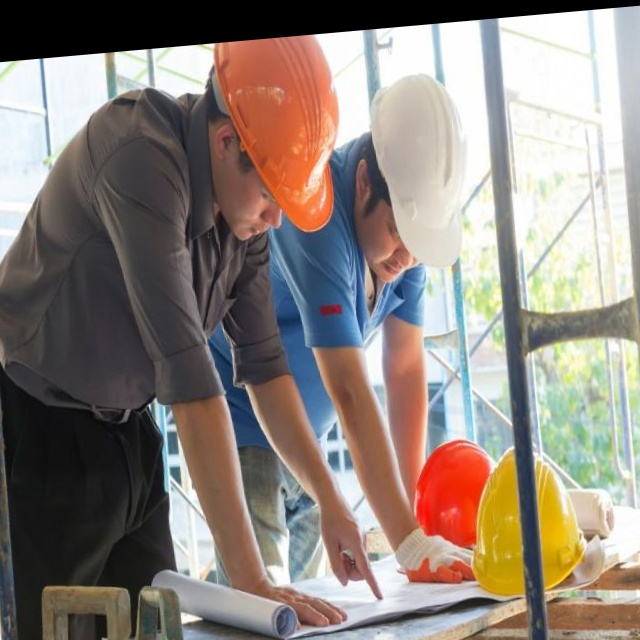Con_Casco: (342, 71, 479, 285), (202, 33, 344, 239)
